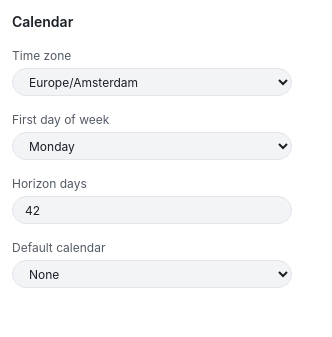
it: the horizon picker › keeps the prior horizon and says so when the commit stands outside the bound
Replace the text in the number field labelled "Horizon days" with "3": (152, 210) [12,196,292,224]
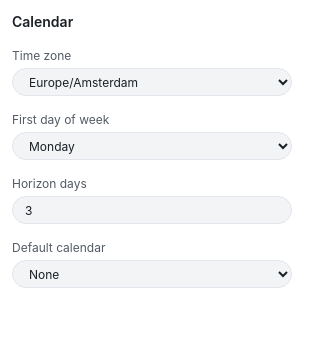
Leave the number field labelled "Horizon days", box [12,196,292,224]
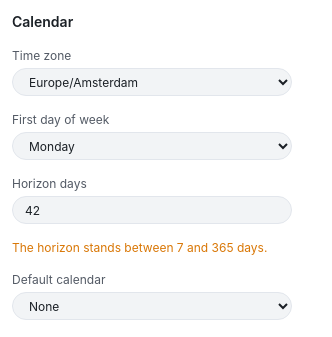
expect the number field labelled "Horizon days" holds "42": met
Replace the text in the number field labelled "Horizon days" with "400": (152, 210) [12,196,292,224]
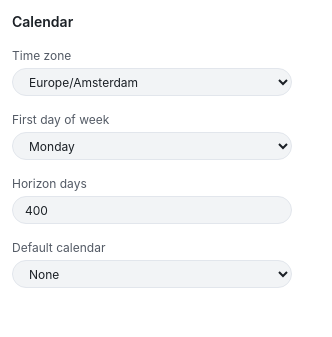
Leave the number field labelled "Horizon days", box [12,196,292,224]
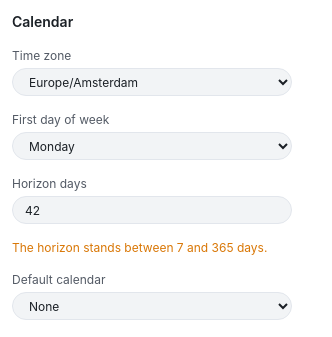
expect the number field labelled "Horizon days" holds "42": met, box [12,196,292,224]
expect the message shows "between 7 and 365": met, box [12,240,267,255]
